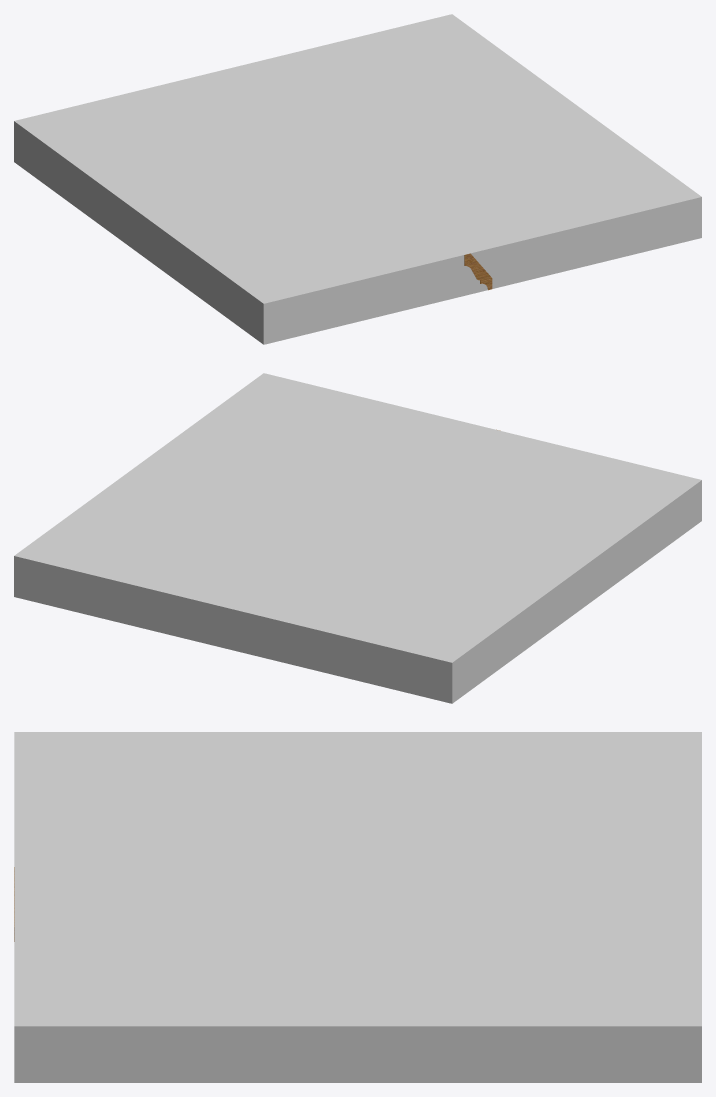
Rendered from VCKR0050.glb.
3 views of the same model, one above another, from view 1: azimuth 30°, elevation 25°; view 2: azimuth 150°, elevation 25°; view 3: azimuth 270°, elevation 25° (orthographic). The views are drawn at different scales.
Visible parts, largest first — view 1: _bb01.003; view 2: _bb01.003; view 3: _bb01.003.
Boxes of the visible parts, x1,y1,x2,y2 form: _bb01.003: (14,14,701,344); _bb01.003: (14,373,701,703); _bb01.003: (14,732,701,1082).
Size of the model in its own units: 0.5037 by 0.0451 by 0.4977.
Materials: 1 (1 with a texture image).
